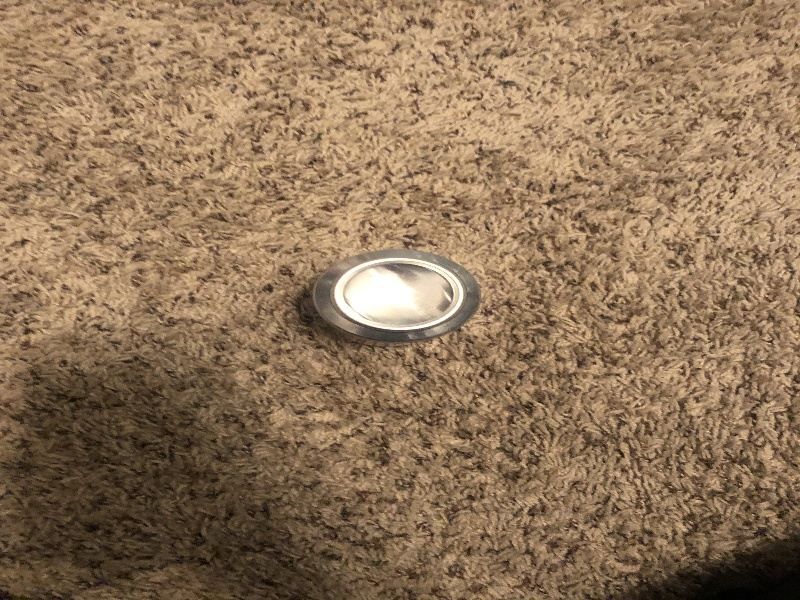metal: (307, 244, 485, 349)
